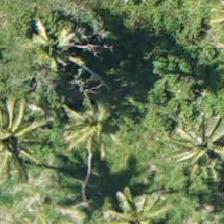coconut_tree: (15, 1, 105, 91), (48, 85, 138, 175), (157, 96, 223, 186), (87, 172, 177, 223), (0, 90, 49, 180)
